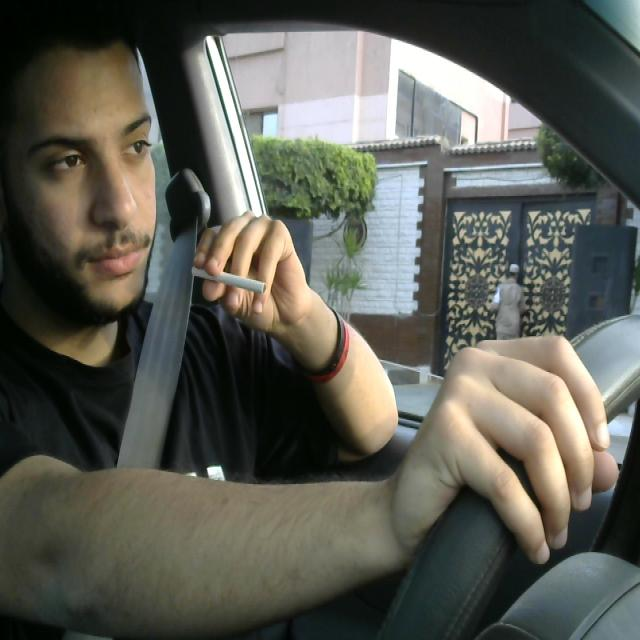smoking: (187, 258, 274, 298)
